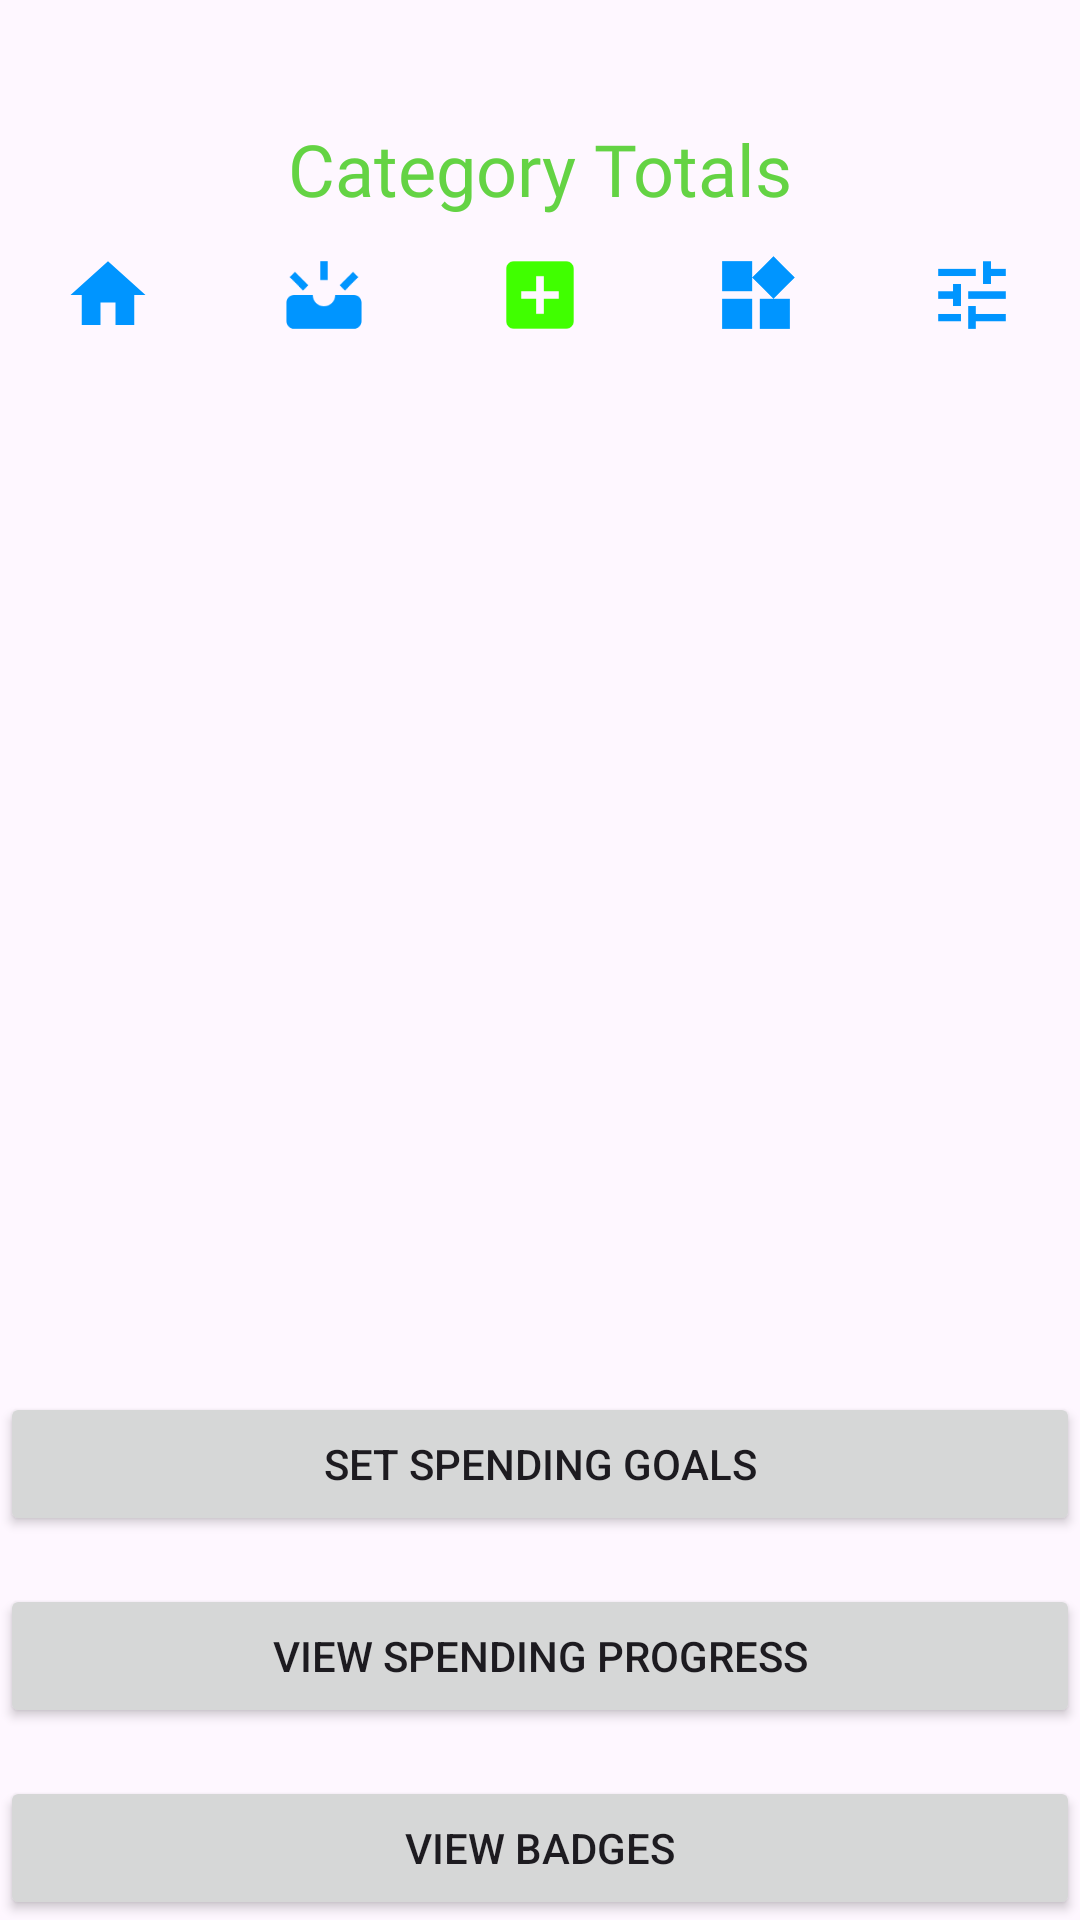

Icons on this 1080x1920 Android screen, each with the point to tap as (x,y):
add box: (540,295)
home: (108,293)
tune: (972,295)
upcoming: (324,295)
widgets: (758,292)
